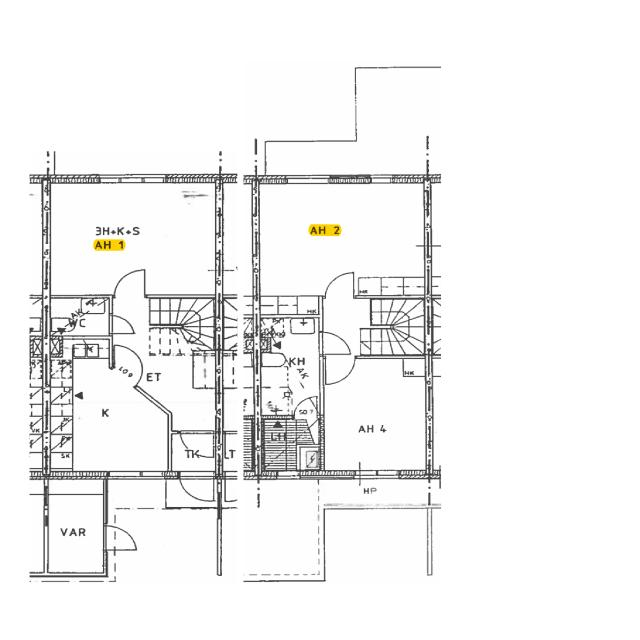door: (259, 314, 323, 417), (175, 430, 217, 504), (173, 429, 219, 463), (108, 266, 152, 300), (176, 471, 218, 505), (318, 268, 360, 301), (317, 354, 358, 387), (101, 522, 142, 552), (316, 329, 355, 357), (110, 342, 143, 371), (106, 313, 136, 337)
window: (229, 184, 263, 294), (99, 172, 169, 186), (36, 197, 54, 248), (419, 376, 439, 421), (107, 467, 165, 482), (281, 172, 333, 188), (351, 468, 403, 482), (37, 257, 53, 291), (366, 173, 398, 186), (272, 473, 300, 482)
zone: (251, 181, 432, 297), (43, 182, 220, 294), (46, 350, 168, 476), (319, 356, 431, 476), (321, 507, 433, 584), (257, 314, 322, 418), (43, 480, 108, 578), (260, 415, 319, 475), (45, 296, 111, 341), (257, 294, 322, 317)
